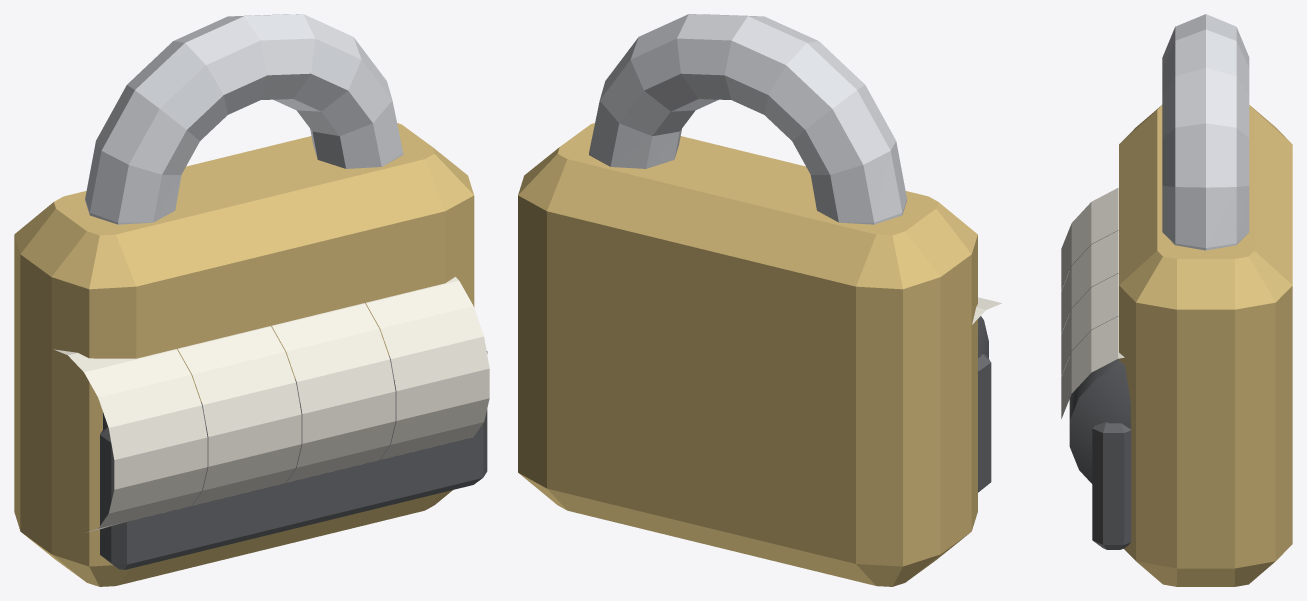
Rendered from escape-room-and-puzzle-venue-combination-padlock-small-1cc72aa6__35783.glb.
3 renders of one model, left to right at view 1: azimuth 30°, elevation 25°; view 2: azimuth 150°, elevation 25°; view 3: azimuth 270°, elevation 25°, orthographic. The views are drawn at different scales.
Parts seen in each view (by area): view 1: combination-padlock-small; view 2: combination-padlock-small; view 3: combination-padlock-small.
Part boxes in pixels (x1,y1,x2,y2): combination-padlock-small: [14, 14, 489, 586]; combination-padlock-small: [518, 14, 1001, 586]; combination-padlock-small: [1061, 14, 1292, 586].
Bounding box in the file's own units: 0.0422 × 0.0496 × 0.0218.
